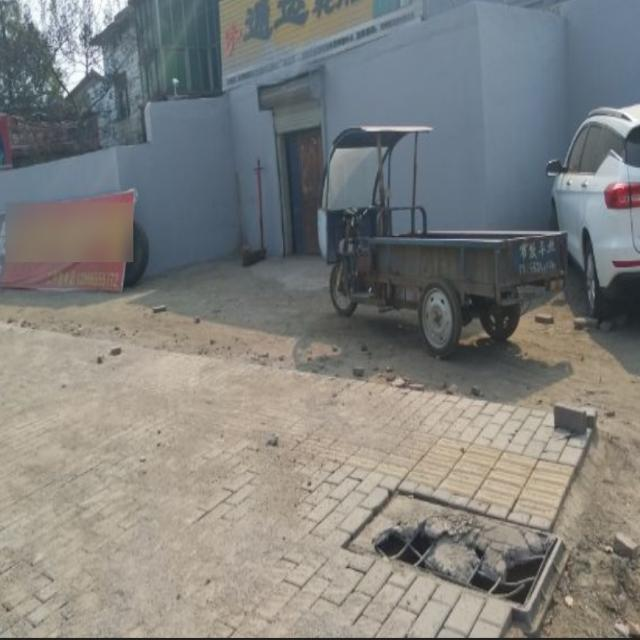Faulty: (325, 484, 579, 632)
